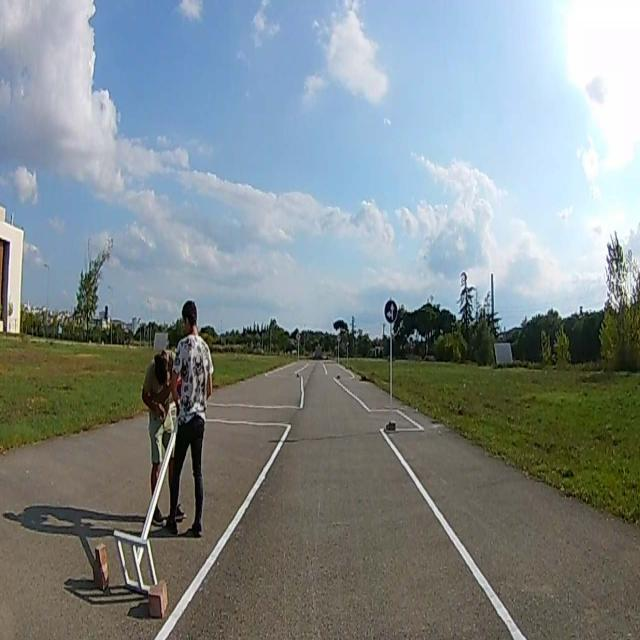ilerisol: (384, 298, 398, 324)
